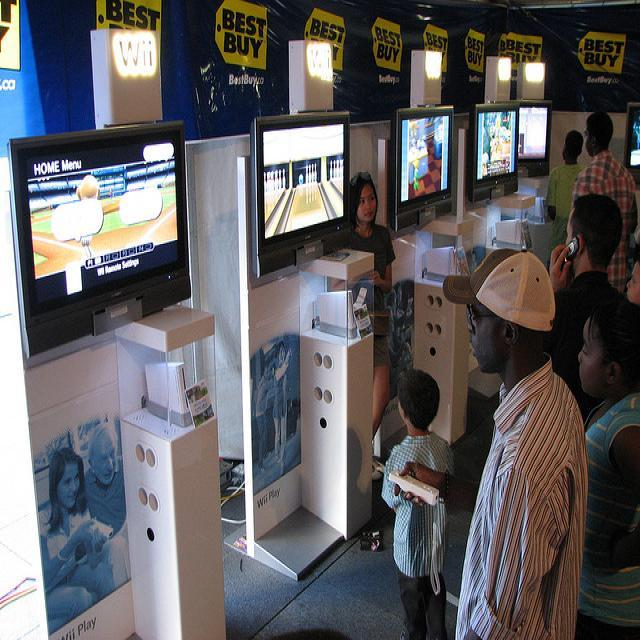non-dog: (388, 248, 589, 640), (578, 279, 640, 639), (542, 194, 638, 386), (383, 369, 451, 640), (572, 111, 639, 279), (339, 170, 395, 295), (544, 129, 585, 247)
